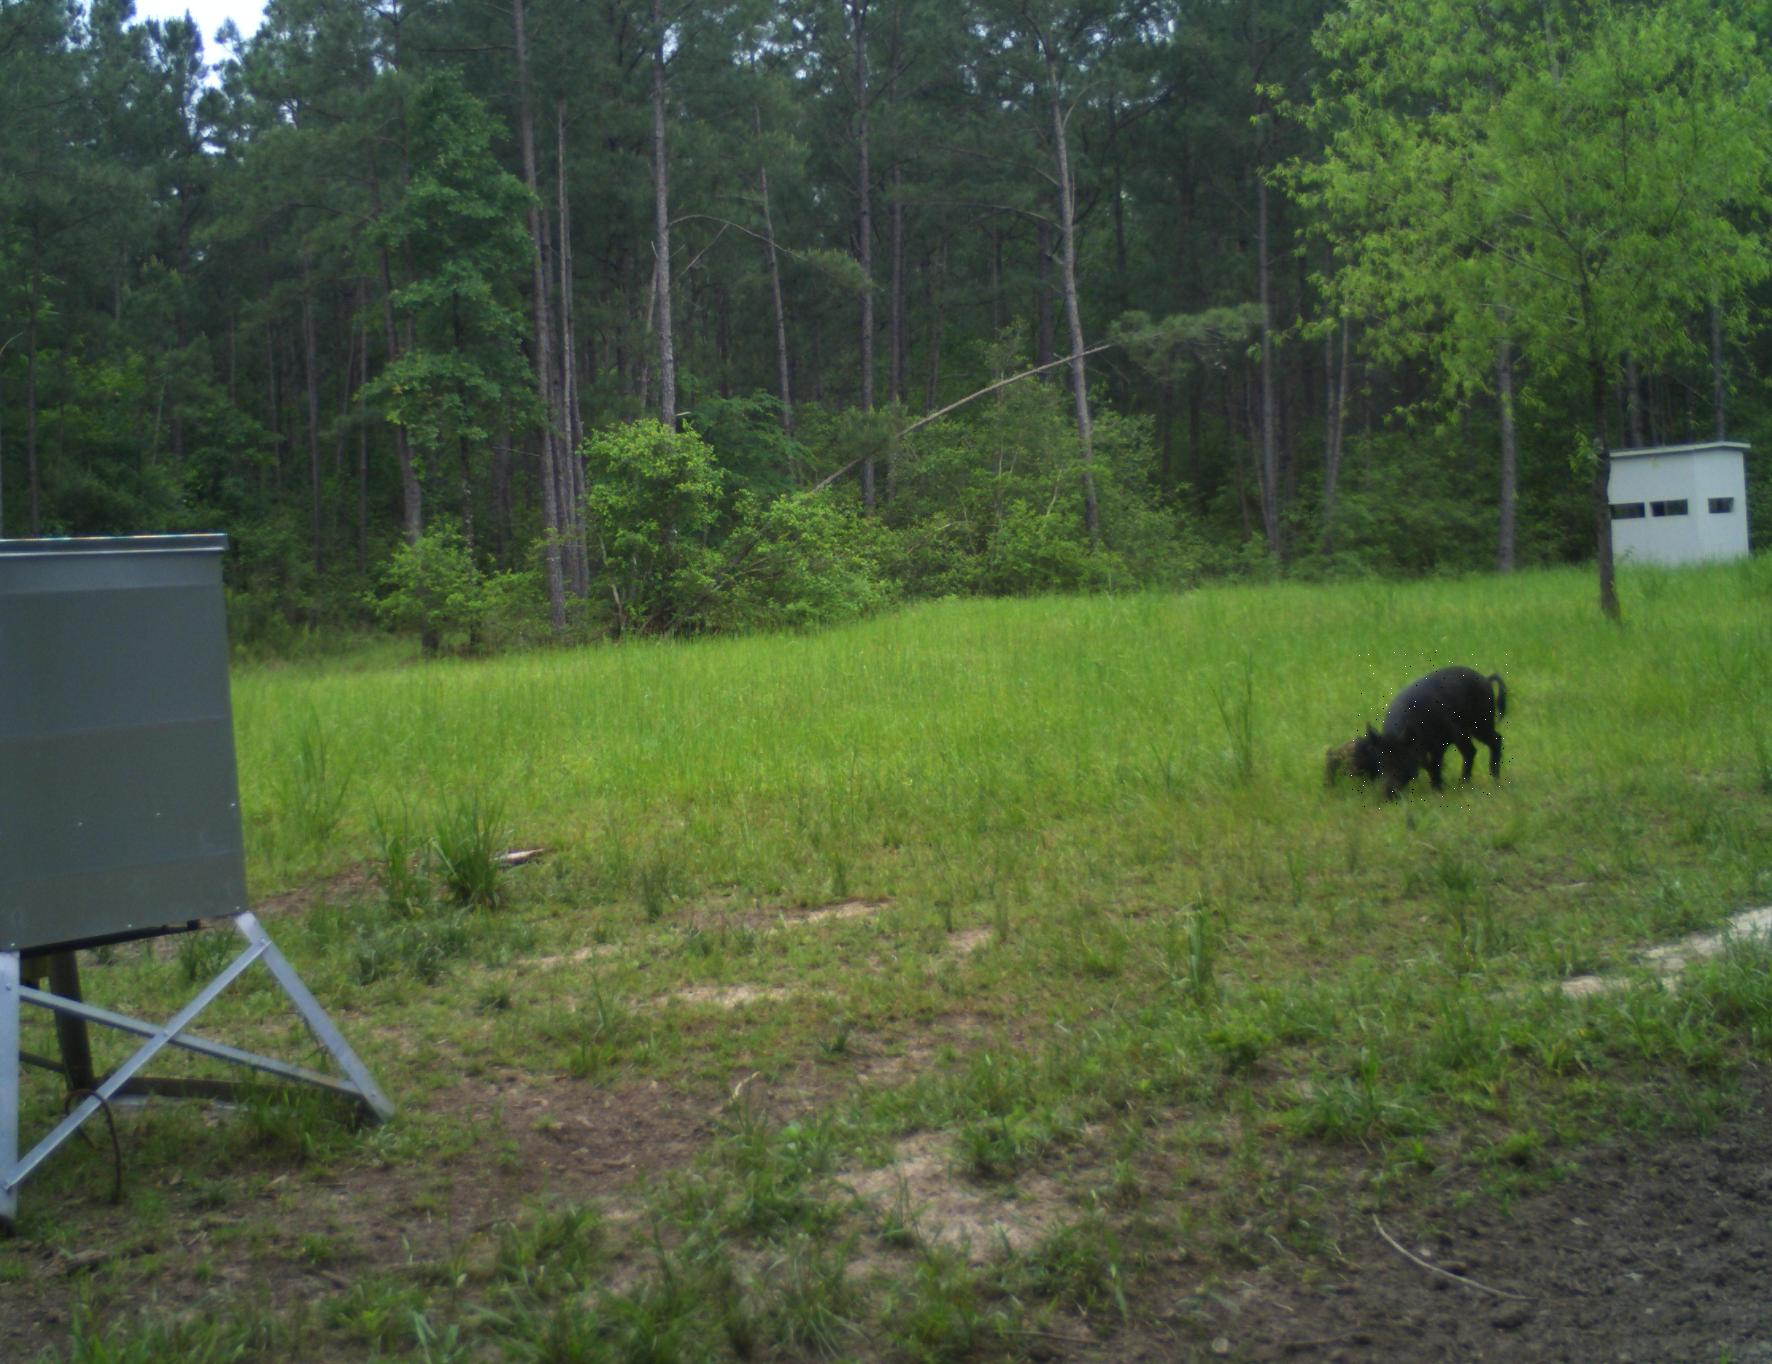Hog: (1349, 650, 1514, 810)
